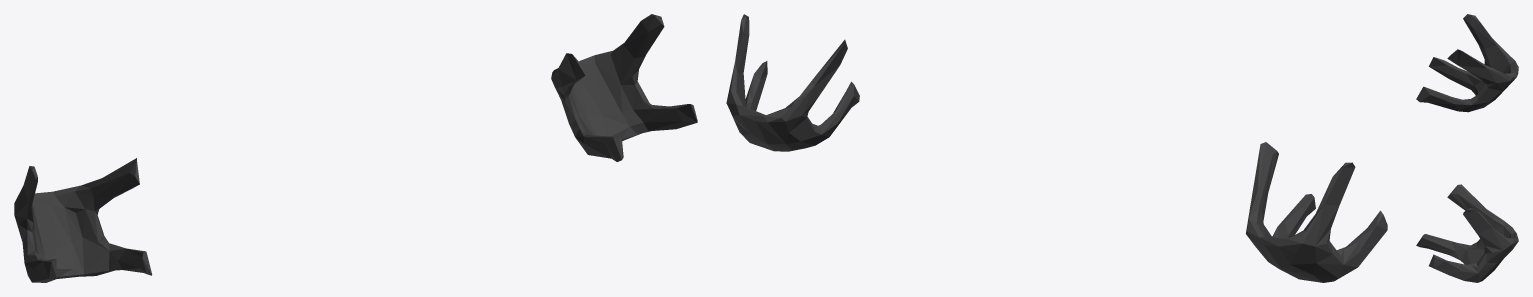
The model's file is lig_proximal_digital_anular_HL.glb.
3 renders of one model, left to right at view 1: azimuth 30°, elevation 25°; view 2: azimuth 150°, elevation 25°; view 3: azimuth 270°, elevation 25°, orthographic. The views are drawn at different scales.
Parts seen in each view (by area): view 1: lig_proximal_digital_anular_HL; view 2: lig_proximal_digital_anular_HL; view 3: lig_proximal_digital_anular_HL.
Boxes of the visible parts, bbox=[...] form: lig_proximal_digital_anular_HL: bbox=[14, 14, 697, 282]; lig_proximal_digital_anular_HL: bbox=[726, 14, 1387, 282]; lig_proximal_digital_anular_HL: bbox=[1416, 14, 1518, 282].
Size of the model in its own units: 0.00567 by 0.00104 by 0.00122.
1 material, 1 textured.
